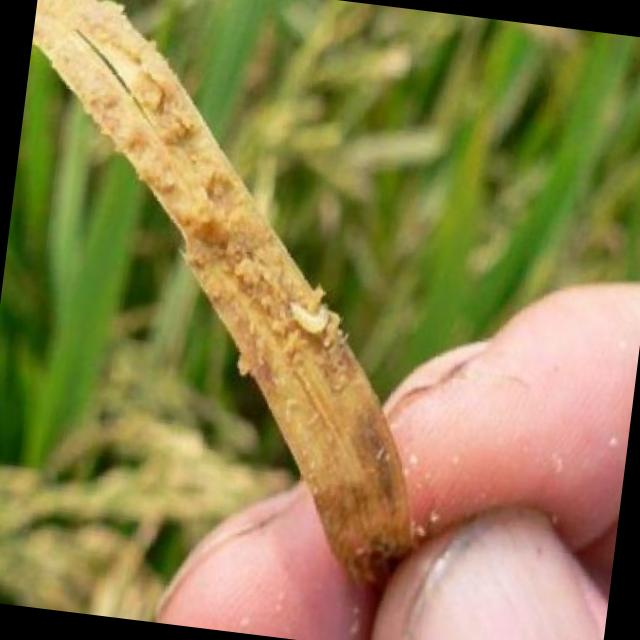whorl-maggot: (280, 288, 332, 342)
